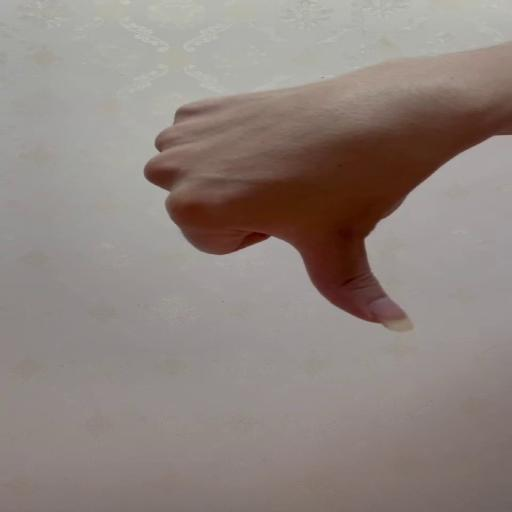thumbs_down: (142, 87, 424, 335)
